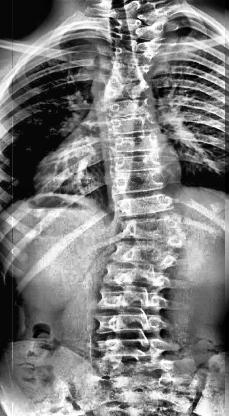Vertebrae: (102, 354, 176, 394), (99, 310, 171, 340), (102, 286, 172, 316), (101, 332, 171, 362), (117, 240, 181, 272), (104, 264, 173, 292), (109, 13, 170, 43), (111, 169, 175, 197), (114, 193, 180, 219), (120, 217, 186, 243), (108, 130, 172, 154), (108, 29, 166, 55), (102, 93, 160, 119), (106, 113, 168, 137), (110, 150, 172, 172), (102, 76, 158, 100), (109, 44, 161, 66), (106, 60, 156, 82)
